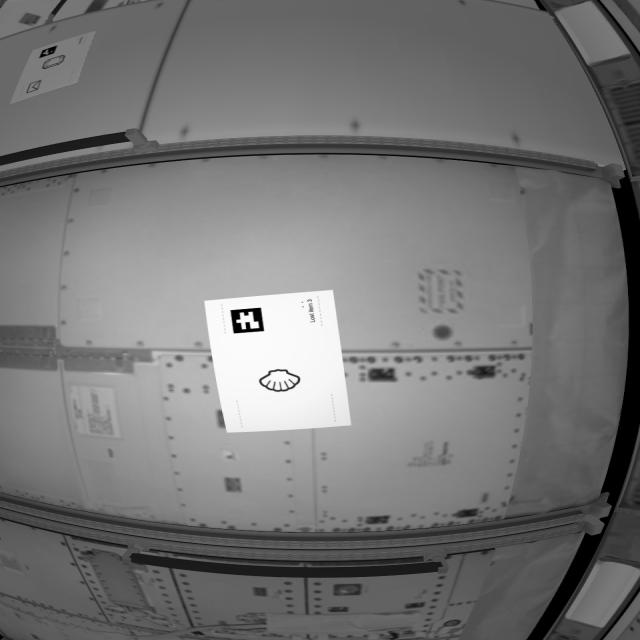shell: (255, 363, 305, 399)
